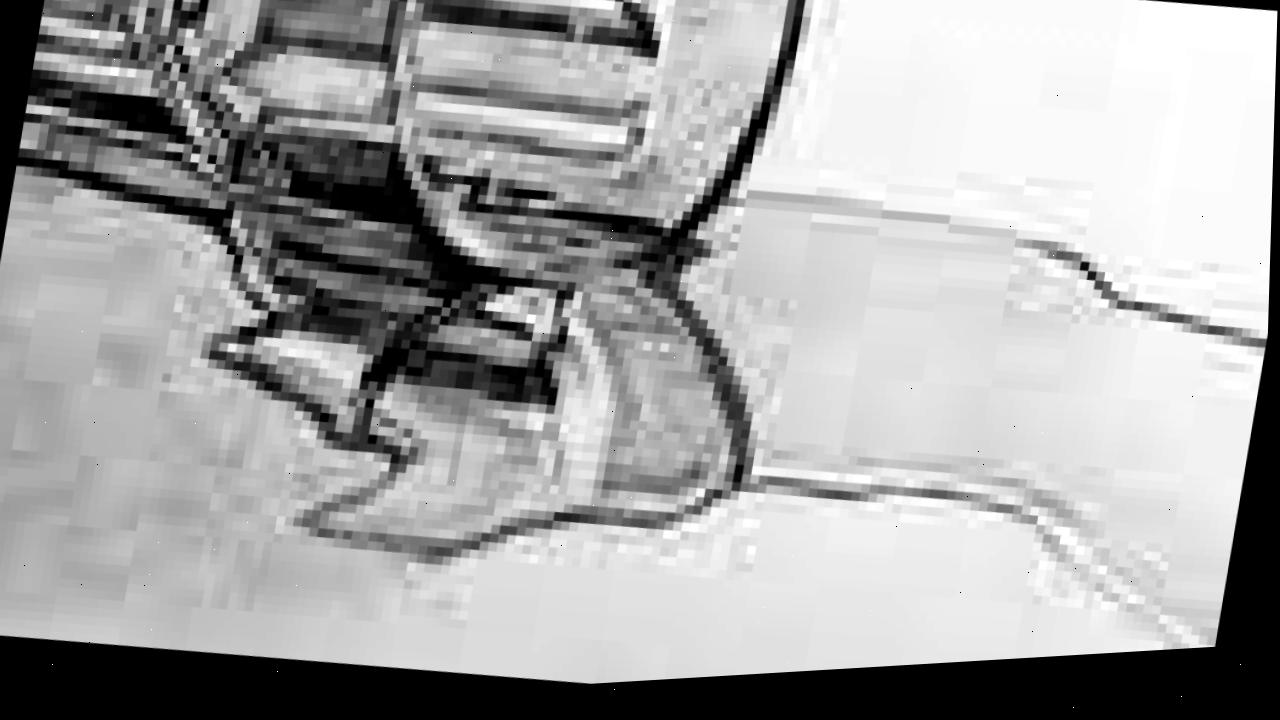Water Stains: (641, 118, 1276, 689)
